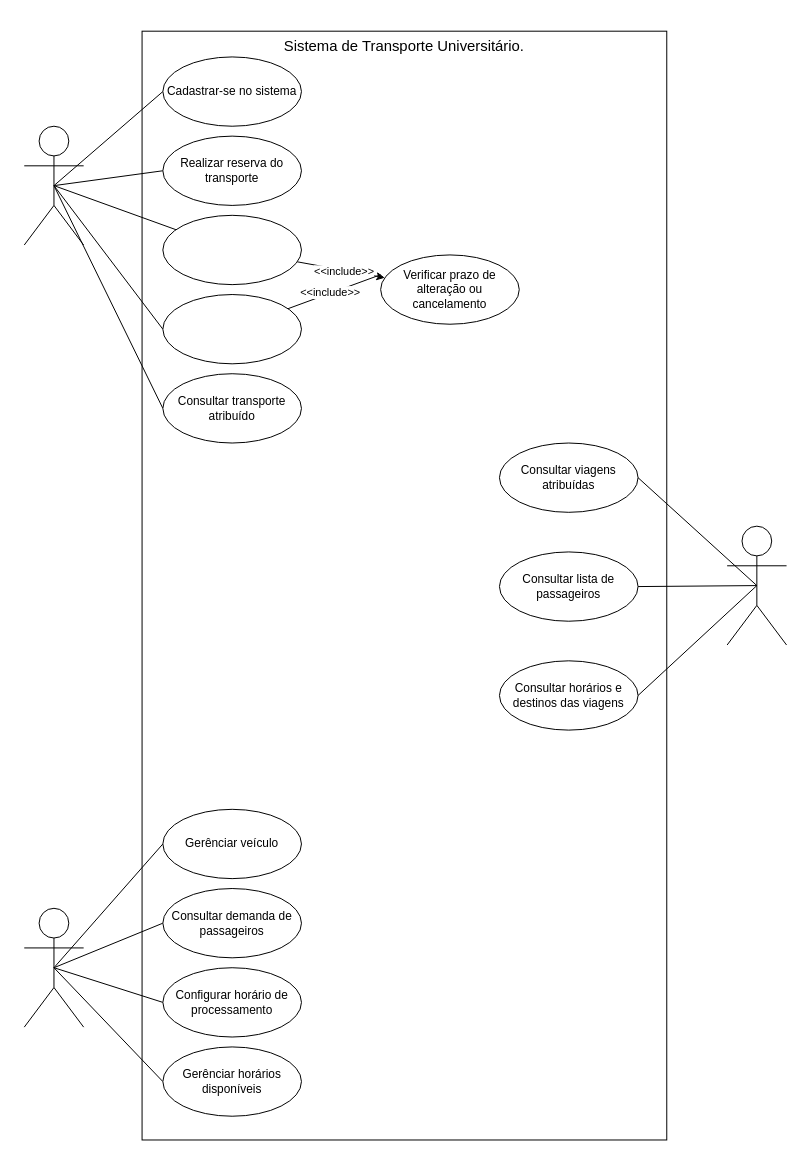
Some shapes in this 804 by 1157 pixel diagram are drawn without their labels. The shapes that lost their labels are listed below. From the top down, each one's box as (x1, y1, x2, y2) in pixels, then its label:
(23, 125, 84, 245): Estudante
(162, 214, 301, 285): Alterar reserva
(162, 294, 301, 364): Cancelar reserva
(726, 525, 787, 645): Motorista
(23, 907, 84, 1027): Administrador
